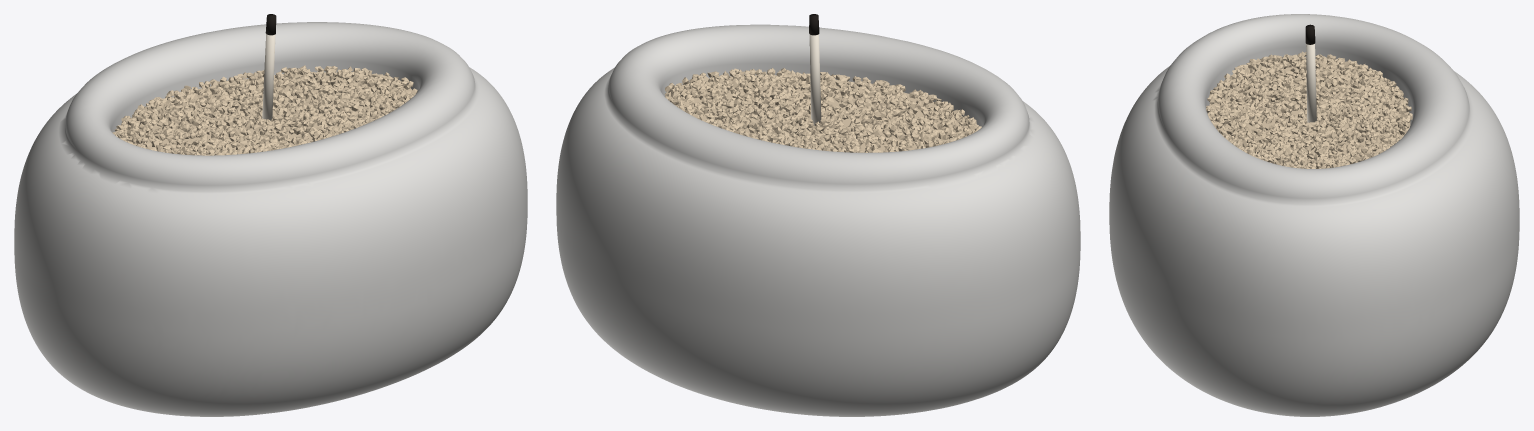
File: seixo.glb
3 renders of one model, left to right at view 1: azimuth 30°, elevation 25°; view 2: azimuth 150°, elevation 25°; view 3: azimuth 270°, elevation 25°, orthographic. The views are drawn at different scales.
Visible parts, largest first — view 1: Seixo, Areia, Pavio0; view 2: Seixo, Areia, Pavio0; view 3: Seixo, Areia, Pavio0.
Part boxes in pixels (left/top/right/bottom): Seixo: left=14, top=22, right=527, bottom=416; Areia: left=112, top=65, right=417, bottom=155; Pavio0: left=262, top=34, right=275, bottom=120; Seixo: left=556, top=24, right=1080, bottom=416; Areia: left=664, top=68, right=981, bottom=152; Pavio0: left=809, top=34, right=821, bottom=125; Seixo: left=1109, top=14, right=1519, bottom=416; Areia: left=1206, top=51, right=1412, bottom=168; Pavio0: left=1306, top=44, right=1316, bottom=122.
Size of the model in its own units: 0.1146 by 0.0758 by 0.092.
